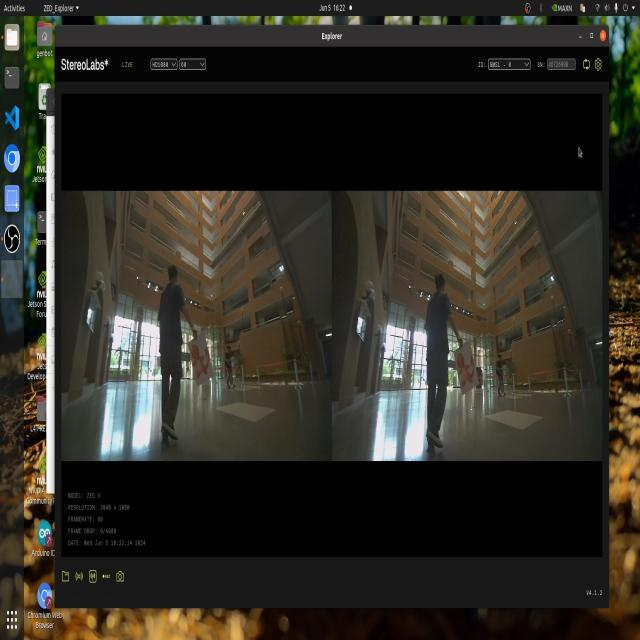red: (448, 342, 476, 392), (189, 339, 211, 379)
